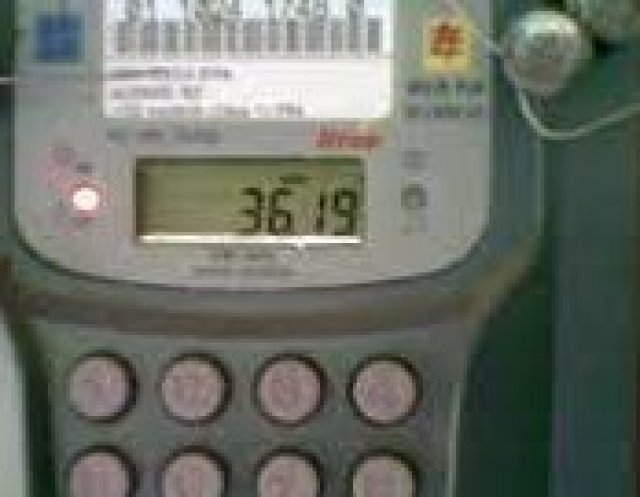box: (134, 157, 366, 239)
